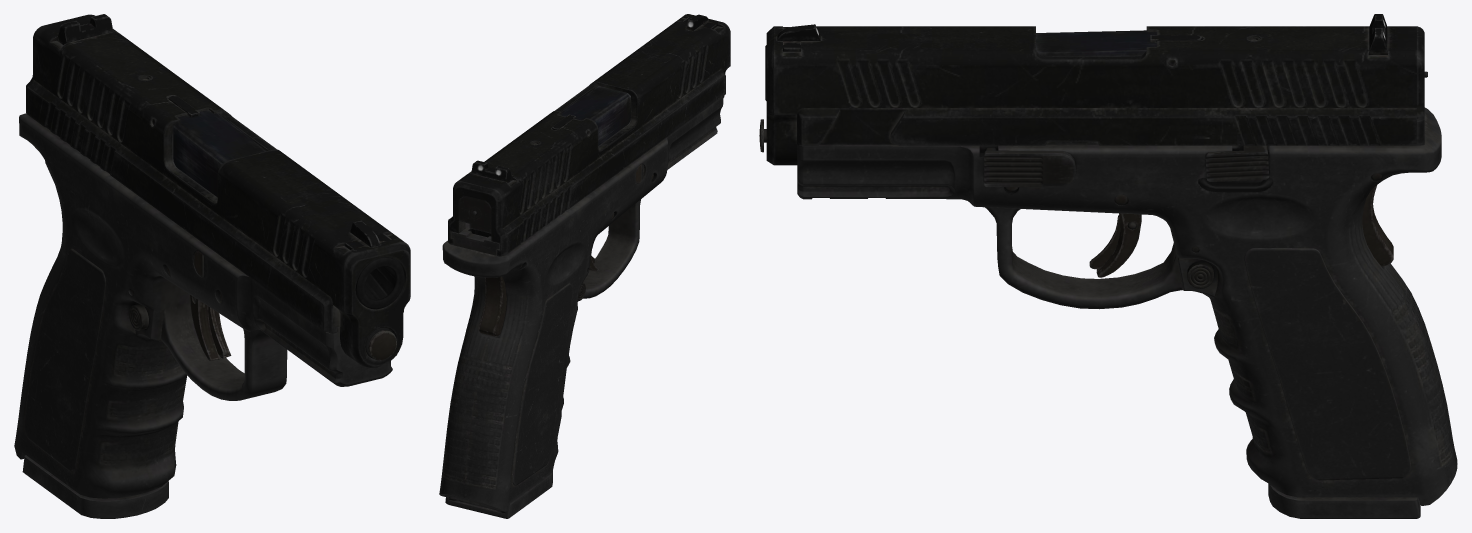
Rendered from RE4pistol1.obj.
3 views of the same model, side by side, from view 1: azimuth 30°, elevation 25°; view 2: azimuth 150°, elevation 25°; view 3: azimuth 270°, elevation 25° (orthographic). The views are drawn at different scales.
Visible parts, largest first — view 1: Group_0_Sub_0__Gun_Mat, Group_5_Sub_0__Gun_Mat; view 2: Group_0_Sub_0__Gun_Mat, Group_5_Sub_0__Gun_Mat; view 3: Group_0_Sub_0__Gun_Mat, Group_5_Sub_0__Gun_Mat.
Boxes of the visible parts, box(x1,y1,x2,y2) form: Group_0_Sub_0__Gun_Mat: box(14, 14, 410, 498); Group_5_Sub_0__Gun_Mat: box(22, 455, 168, 518); Group_0_Sub_0__Gun_Mat: box(439, 14, 730, 511); Group_5_Sub_0__Gun_Mat: box(445, 335, 552, 518); Group_0_Sub_0__Gun_Mat: box(759, 14, 1457, 505); Group_5_Sub_0__Gun_Mat: box(1268, 145, 1420, 518).
Size of the model in its own units: 0.0306 by 0.1397 by 0.1866.
Materials: 1 (1 with a texture image).
